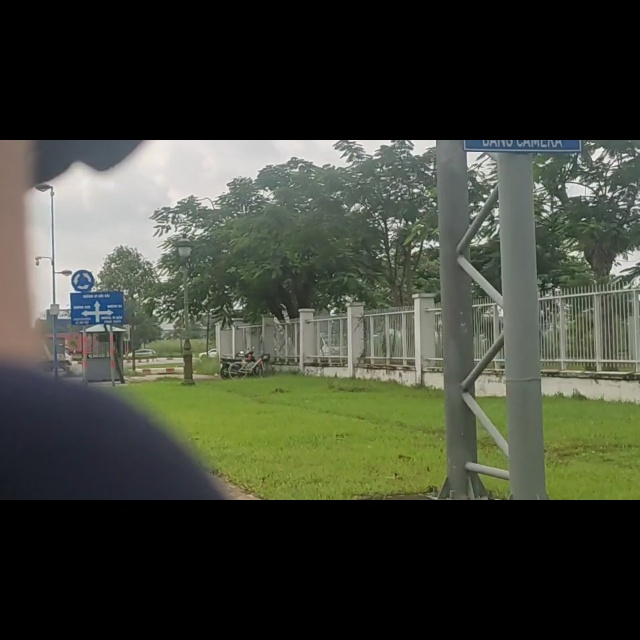bien_hieu_lenh: (71, 231, 95, 268)
